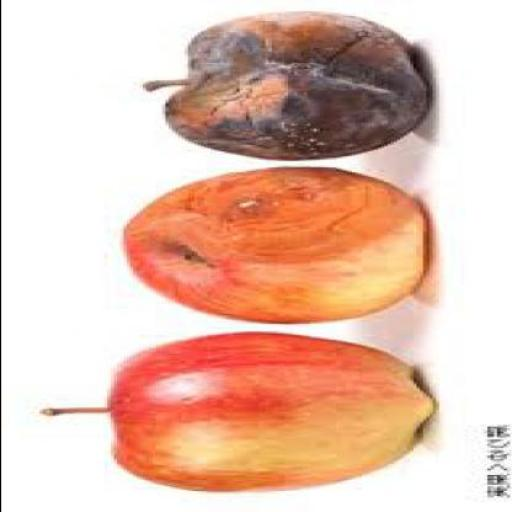biodegradable: (35, 331, 431, 491), (120, 164, 428, 326), (138, 10, 428, 157)
